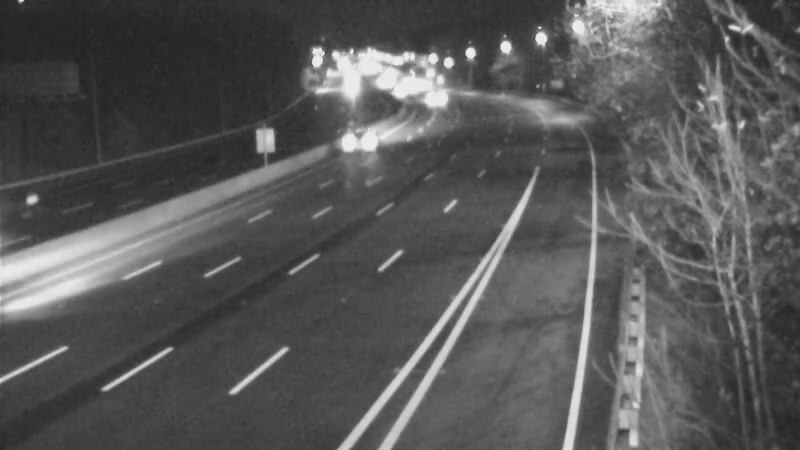vehicle: (1, 164, 72, 244), (408, 69, 458, 119), (335, 117, 385, 167)
